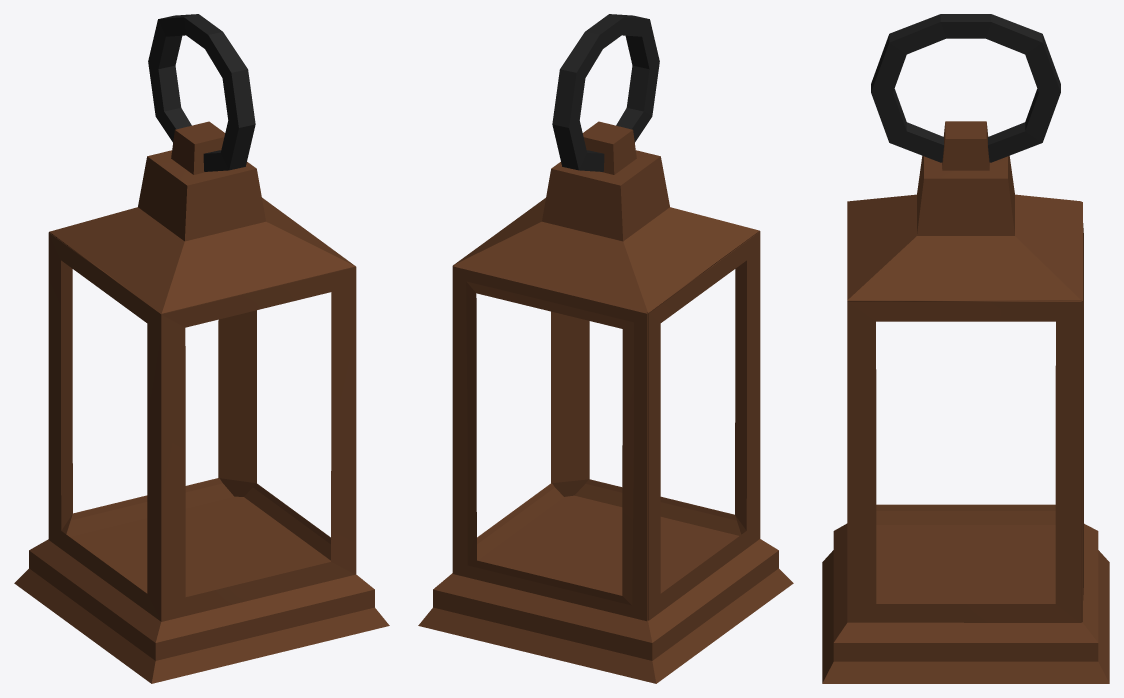
The model's file is Lamp Overlay.obj.
The picture shows the model from 3 angles, left to right: view 1: azimuth 30°, elevation 25°; view 2: azimuth 150°, elevation 25°; view 3: azimuth 270°, elevation 25°; orthographic projection. The views are drawn at different scales.
Parts seen in each view (by area): view 1: Overlay; view 2: Overlay; view 3: Overlay.
Boxes of the visible parts, x1,y1,x2,y2 form: Overlay: (14, 14, 389, 683); Overlay: (418, 14, 793, 683); Overlay: (822, 14, 1109, 683).
Size of the model in its own units: 0.1582 by 0.3679 by 0.1582.
